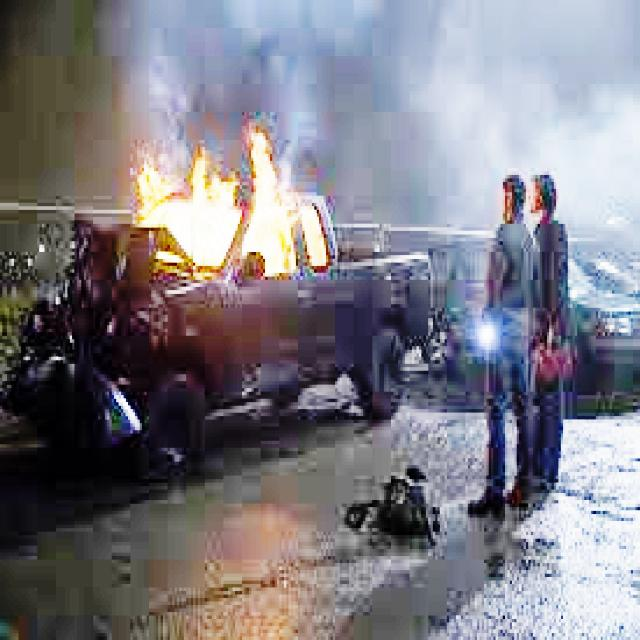api: (131, 127, 336, 298)
